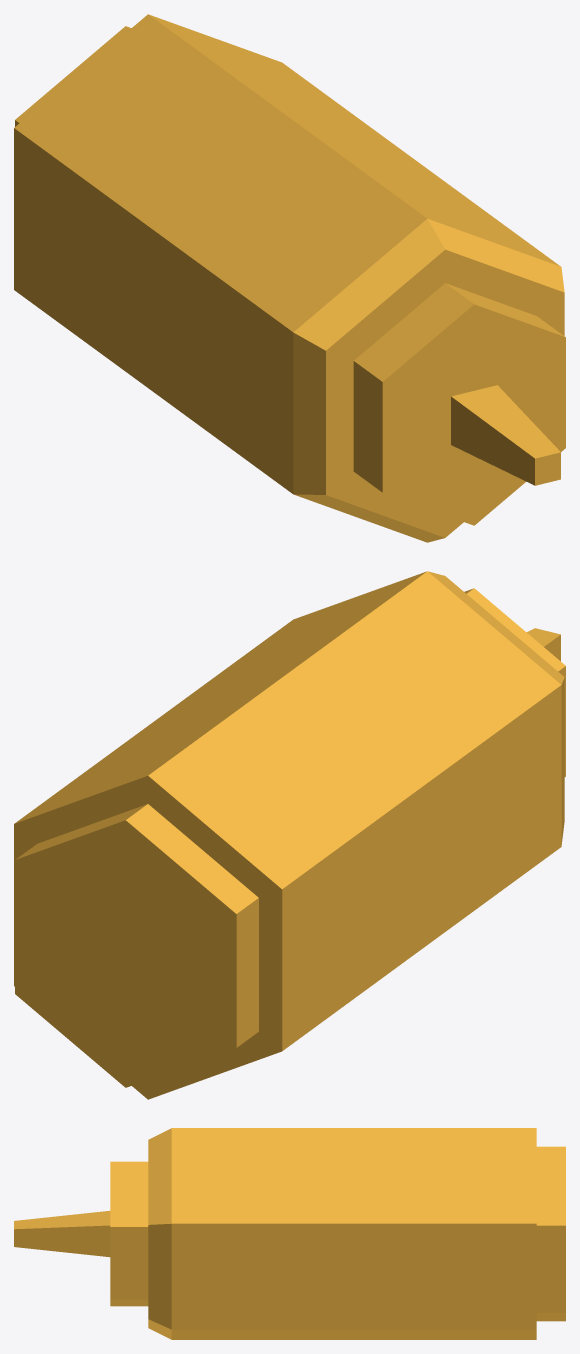
File: mustardCollider.obj
3 renders of one model, top to bottom at view 1: azimuth 30°, elevation 25°; view 2: azimuth 150°, elevation 25°; view 3: azimuth 270°, elevation 25°, orthographic. The views are drawn at different scales.
Parts seen in each view (by area): view 1: bottleMusterd.001, bottleMusterd.003, bottleMusterd.002, bottleMusterd.004; view 2: bottleMusterd.001, bottleMusterd.004, bottleMusterd.003; view 3: bottleMusterd.001, bottleMusterd.003, bottleMusterd.004, bottleMusterd.002.
Part boxes in pixels (left/top/right/bottom): bottleMusterd.001: left=14, top=14, right=564, bottom=542; bottleMusterd.003: left=353, top=283, right=565, bottom=525; bottleMusterd.002: left=451, top=385, right=560, bottom=485; bottleMusterd.004: left=15, top=26, right=131, bottom=126; bottleMusterd.001: left=14, top=571, right=564, bottom=1099; bottleMusterd.004: left=15, top=804, right=258, bottom=1087; bottleMusterd.003: left=464, top=588, right=565, bottom=776; bottleMusterd.001: left=148, top=1128, right=536, bottom=1339; bottleMusterd.003: left=110, top=1161, right=148, bottom=1306; bottleMusterd.004: left=536, top=1146, right=565, bottom=1321; bottleMusterd.002: left=14, top=1210, right=110, bottom=1257.
Bounding box in the file's own units: 0.0721 × 0.0832 × 0.1966.
